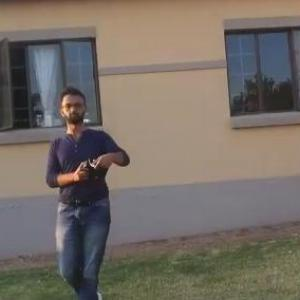follow: (38, 79, 133, 299)
